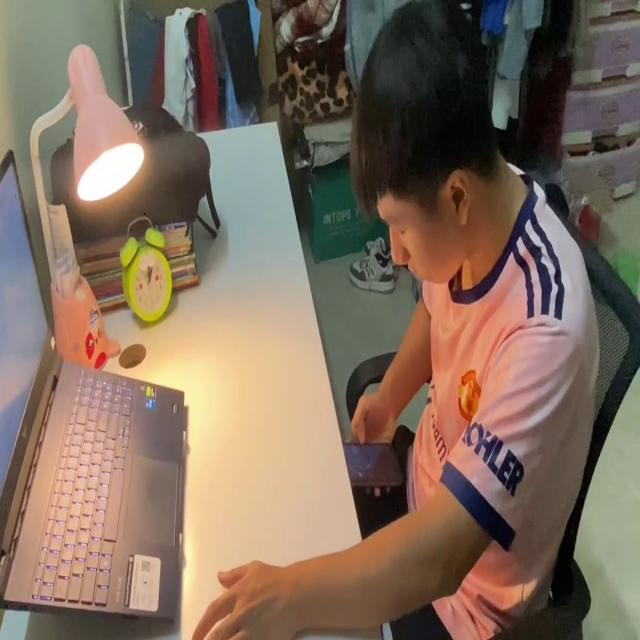laptop: (0, 145, 188, 633)
phone: (341, 434, 407, 491)
student: (191, 0, 602, 640)
